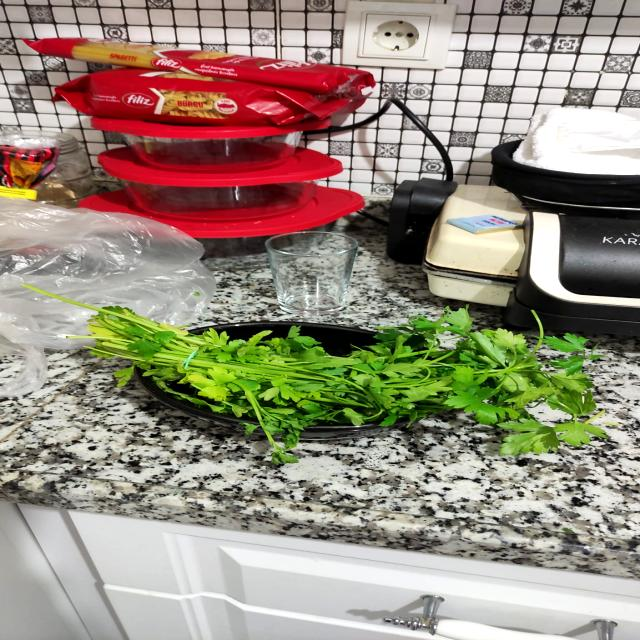parsley: (28, 278, 640, 465)
